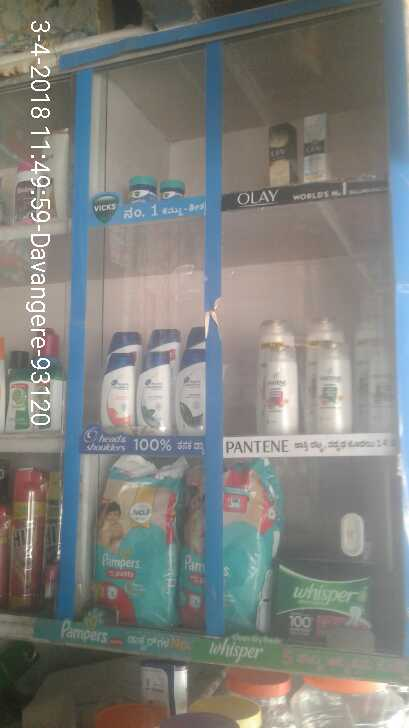vicks: (118, 173, 187, 214)
